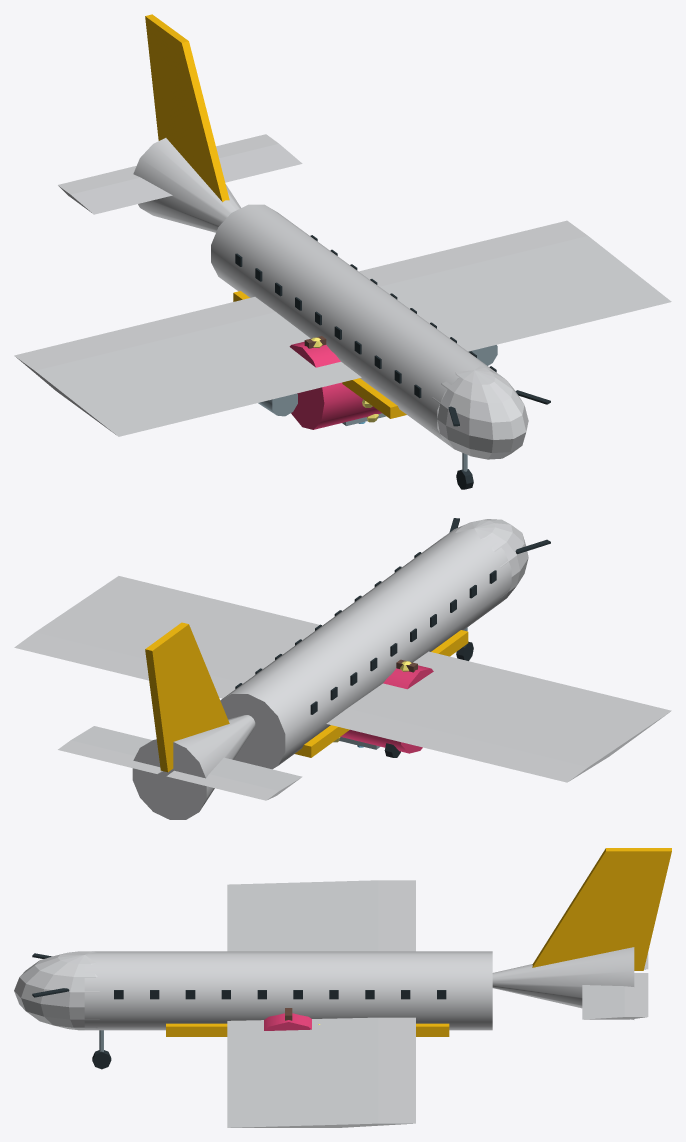
The model's file is airport_terminal_props.glb.
The picture shows the model from 3 angles, top to bottom: view 1: azimuth 30°, elevation 25°; view 2: azimuth 150°, elevation 25°; view 3: azimuth 270°, elevation 25°; orthographic projection. The views are drawn at different scales.
Parts seen in each view (by area): view 1: Plane_m, BigBag_m; view 2: Plane_m, BigBag_m; view 3: Plane_m, BigBag_m.
Boxes of the visible parts, <box> form: Plane_m: <box>14,14,671,489</box>; BigBag_m: <box>289,336,381,429</box>; Plane_m: <box>14,518,671,819</box>; BigBag_m: <box>333,659,433,753</box>; Plane_m: <box>14,848,671,1127</box>; BigBag_m: <box>264,1008,320,1030</box>.
Size of the model in its own units: 6.1 by 2.65 by 6.97.
